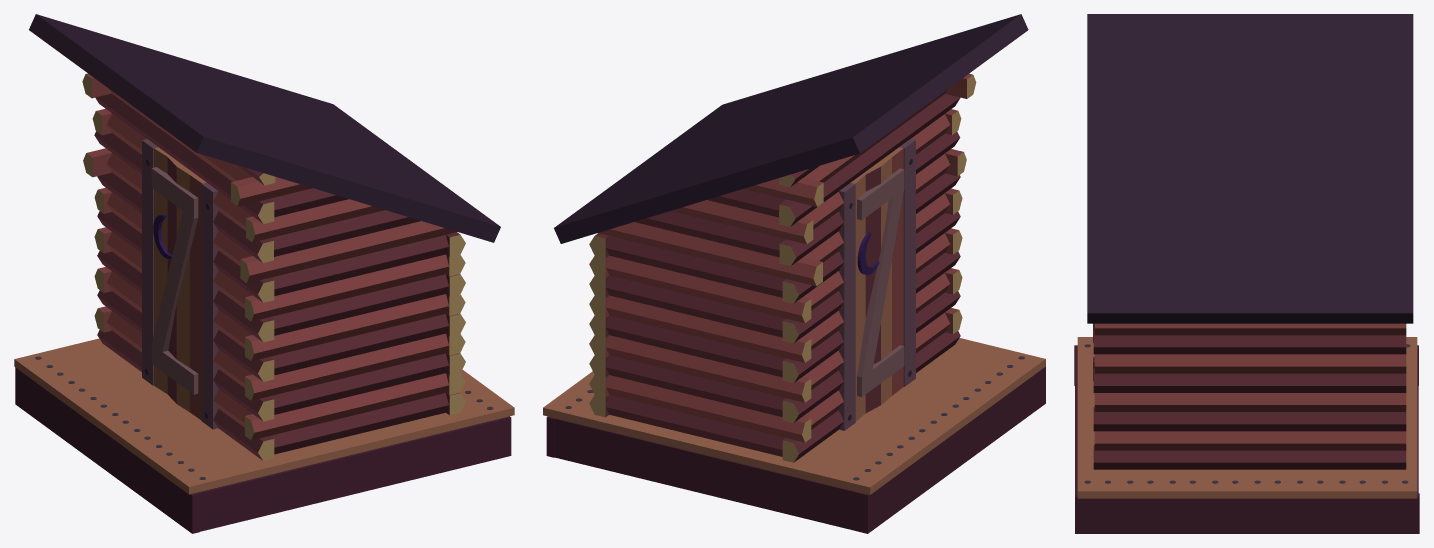
The model's file is toilet.fbx.
The picture shows the model from 3 angles, left to right: view 1: azimuth 30°, elevation 25°; view 2: azimuth 150°, elevation 25°; view 3: azimuth 270°, elevation 25°; orthographic projection. The views are drawn at different scales.
Parts seen in each view (by area): view 1: Toit, Planche, BucheCOurte.001, BucheLongue.001, Cube.002, Porte, Cube, Planche.001, FrontRight, Cube.004, BucheLongue.007, FrontLEft (+16 smaller); view 2: Toit, Planche, BucheCOurte, BucheLongue, Cube.001, Cube, Porte, Planche.001, FrontLEft, Cube.004, BucheLongue.002, FrontRight (+15 smaller); view 3: Toit, Back, BackShort, Planche, Cube.003, Cube.002.
Part boxes in pixels (x1,y1,x2,y2): Toit: (29, 14, 500, 242); Planche: (14, 338, 514, 494); BucheCOurte.001: (270, 235, 448, 454); BucheLongue.001: (245, 254, 448, 440); Cube.002: (198, 418, 504, 531); Porte: (154, 147, 206, 420); Cube: (15, 367, 199, 533); Planche.001: (142, 139, 218, 429); FrontRight: (213, 250, 274, 460); Cube.004: (151, 167, 198, 394); BucheLongue.007: (240, 221, 456, 283); FrontLEft: (97, 172, 141, 371); Toit: (554, 14, 1028, 243); Planche: (543, 338, 1045, 494); BucheCOurte: (606, 236, 785, 456); BucheLongue: (606, 255, 811, 442); Cube.001: (554, 418, 860, 531); Cube: (860, 366, 1045, 533); Porte: (850, 147, 903, 421); Planche.001: (838, 139, 915, 430); FrontLEft: (782, 251, 843, 462); Cube.004: (857, 168, 904, 396); BucheLongue.002: (598, 222, 822, 286); FrontRight: (916, 173, 960, 372); Toit: (1087, 14, 1413, 323); Back: (1093, 330, 1406, 469); BackShort: (1094, 323, 1406, 450); Planche: (1077, 337, 1417, 498); Cube.003: (1075, 493, 1419, 533); Cube.002: (1075, 348, 1077, 493).
Bounding box in the file's own units: 301 × 343 × 285.
